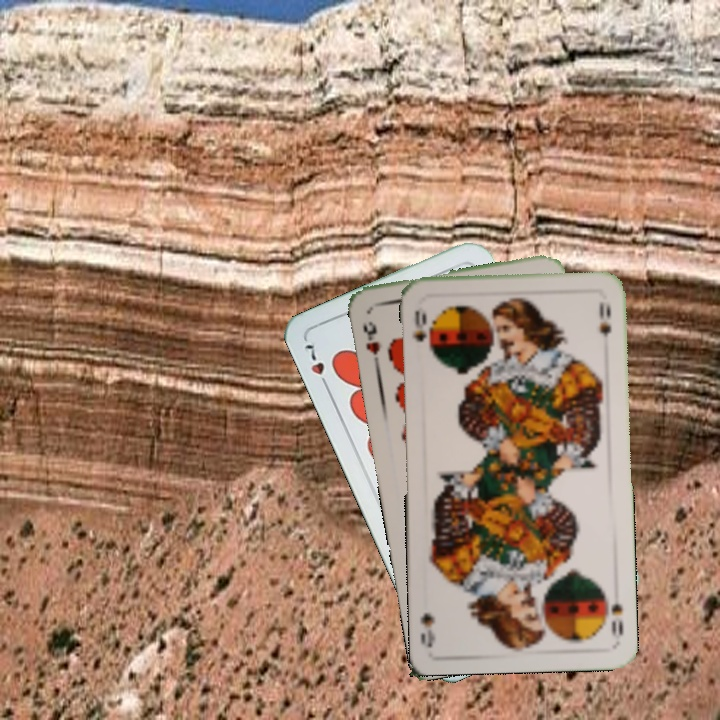H7: (301, 340, 332, 393)
H9: (359, 317, 383, 368)
SO: (601, 585, 626, 643), (408, 306, 435, 359)
